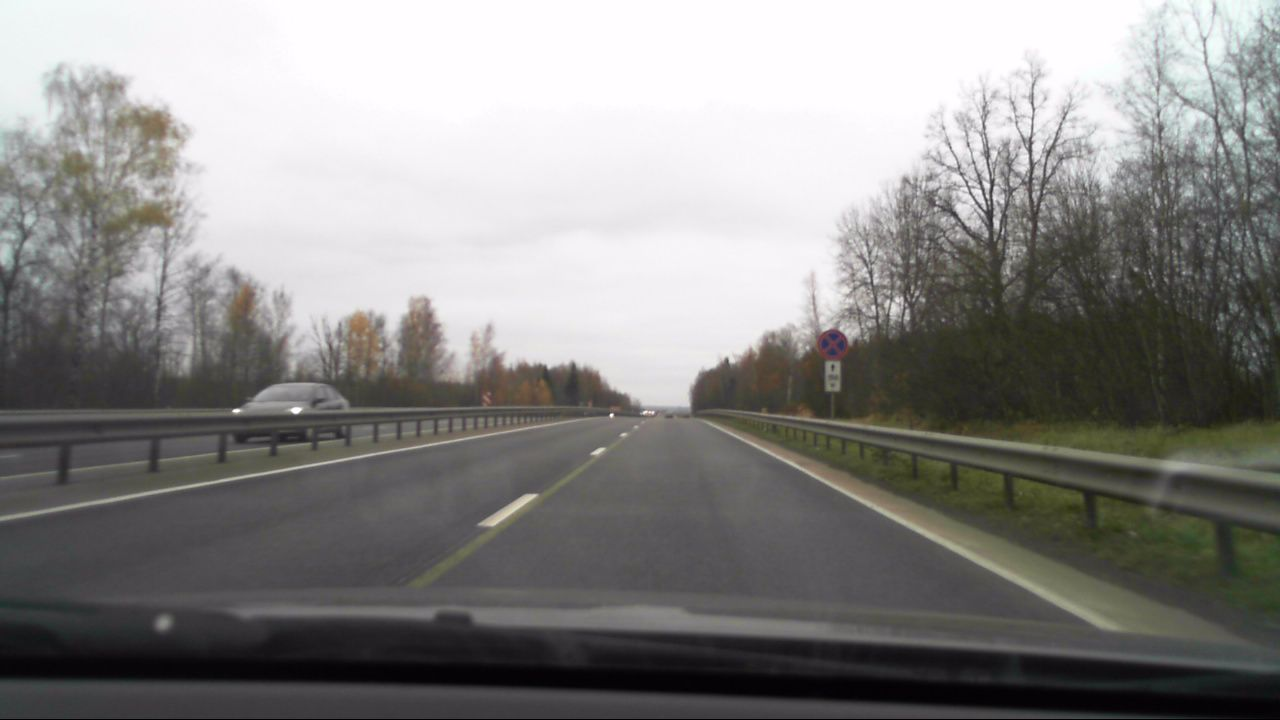No Parking: (818, 328, 849, 359)
